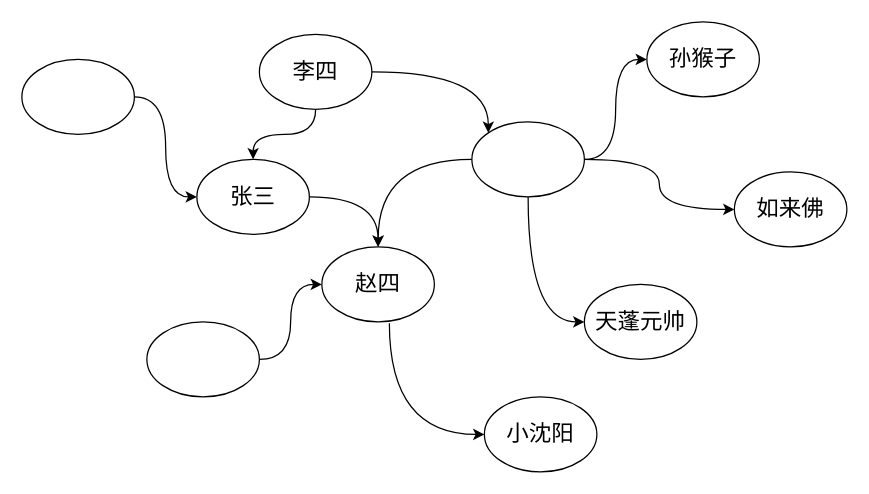
This 869x494 diagram has some shape labels left out. Each missing label, with the centre of its shape:
"唐僧" belongs at point 527,159.
"王五" belongs at point 77,96.
"阎王" belongs at point 202,359.
